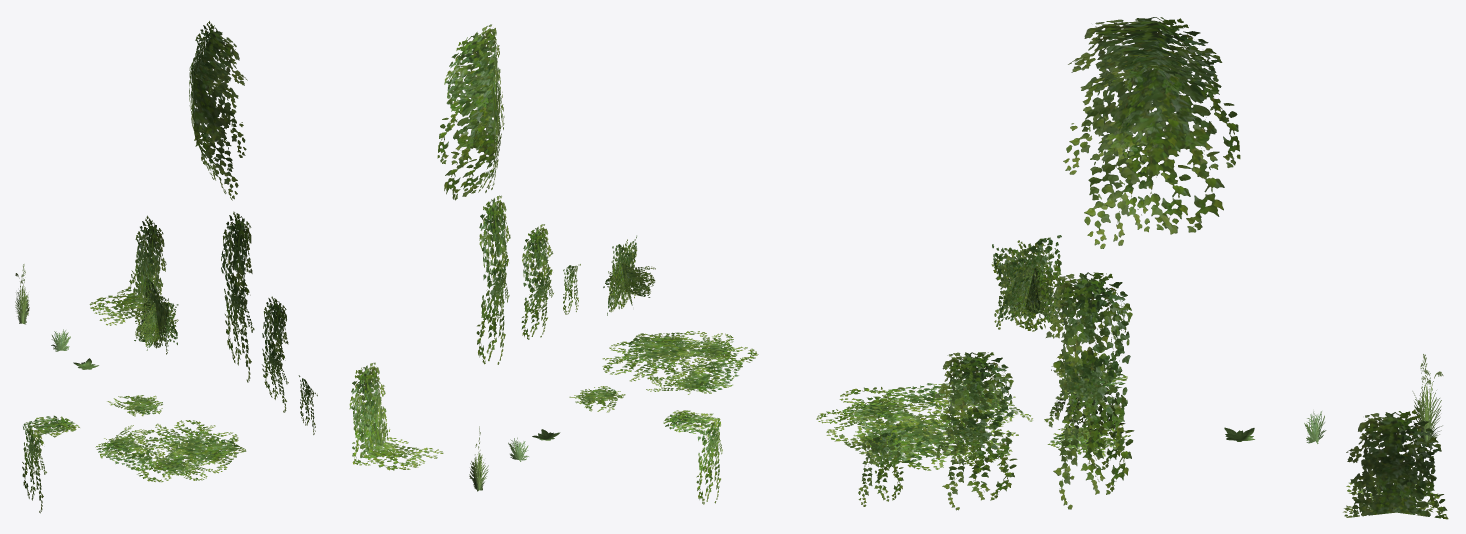
The model's file is TLRPlants.fbx.
3 views of the same model, side by side, from view 1: azimuth 30°, elevation 25°; view 2: azimuth 150°, elevation 25°; view 3: azimuth 270°, elevation 25° (orthographic). The views are drawn at different scales.
Visible parts, largest first — view 1: PlantBigWall, PlantFloorBig, PlantBigUp, PlantHoek, PlantOpfulling, PlantMidUp, PlantOverSmall, PlantFloorSmall, GrassBIg, PlantSmallUp; view 2: PlantBigWall, PlantFloorBig, PlantHoek, PlantBigUp, PlantMidUp, PlantOverSmall, PlantOpfulling, PlantFloorSmall, PlantSmallUp; view 3: PlantBigWall, PlantBigUp, PlantHoek, PlantFloorBig, PlantMidUp, PlantOpfulling, PlantOverSmall, PlantSmallUp, GrassBIg, PlantFloorSmall.
Boxes of the visible parts, x1,y1,x2,y2 form: PlantBigWall: [189, 21, 247, 200]; PlantFloorBig: [95, 420, 246, 482]; PlantBigUp: [221, 211, 254, 382]; PlantHoek: [89, 215, 166, 325]; PlantOpfulling: [134, 275, 178, 354]; PlantMidUp: [262, 296, 288, 412]; PlantOverSmall: [22, 415, 79, 513]; PlantFloorSmall: [107, 395, 162, 416]; GrassBIg: [15, 264, 29, 324]; PlantSmallUp: [298, 375, 317, 434]; PlantBigWall: [437, 24, 504, 200]; PlantFloorBig: [602, 331, 758, 394]; PlantHoek: [349, 362, 443, 470]; PlantBigUp: [476, 195, 510, 364]; PlantMidUp: [521, 224, 553, 339]; PlantOverSmall: [663, 410, 722, 504]; PlantOpfulling: [603, 235, 655, 315]; PlantFloorSmall: [569, 386, 625, 412]; PlantSmallUp: [563, 264, 580, 314]; PlantBigWall: [1063, 17, 1240, 248]; PlantBigUp: [1044, 272, 1134, 509]; PlantHoek: [1343, 409, 1448, 519]; PlantFloorBig: [816, 381, 1032, 470]; PlantMidUp: [932, 352, 1017, 510]; PlantOpfulling: [991, 235, 1072, 331]; PlantOverSmall: [1053, 358, 1127, 479]; PlantSmallUp: [852, 432, 904, 506]; GrassBIg: [1412, 354, 1443, 441]; PlantFloorSmall: [1047, 424, 1130, 456].
Size of the model in its own units: 453 by 796 by 770.
